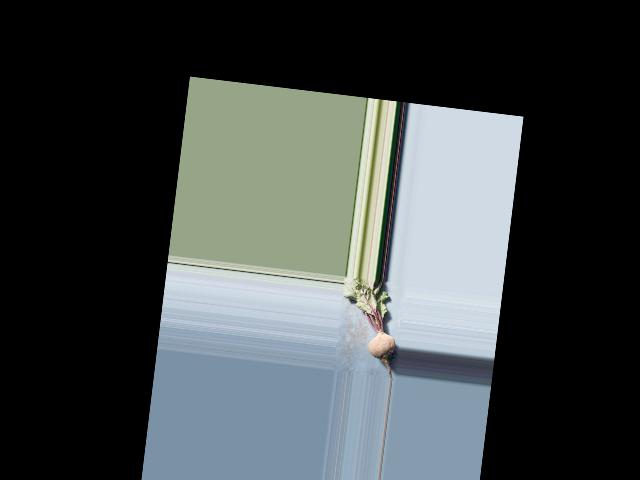beet: (333, 275, 403, 377)
